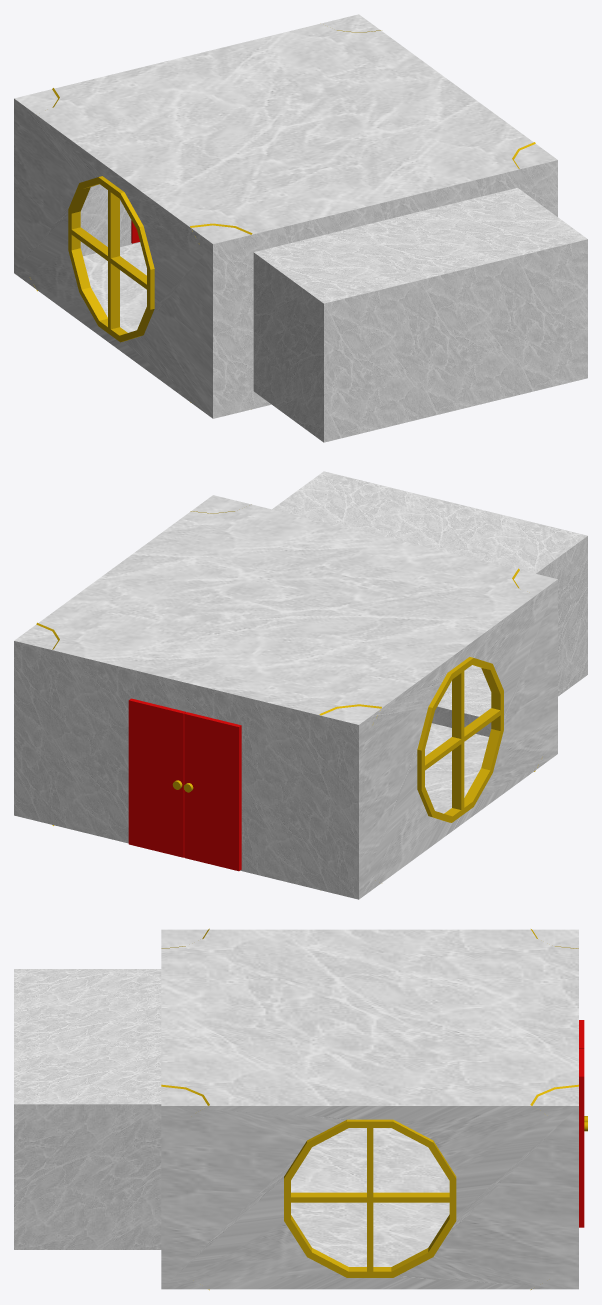
File: ryugujo.fbx
3 views of the same model, one above another, from view 1: azimuth 30°, elevation 25°; view 2: azimuth 150°, elevation 25°; view 3: azimuth 270°, elevation 25° (orthographic). The views are drawn at different scales.
Parts seen in each view (by area): view 1: pCube1, pPipe1; view 2: pCube1, pCube2, pPipe1; view 3: pCube1, pPipe1, pCube2.
Boxes of the visible parts, x1,y1,x2,y2 form: pCube1: [14, 14, 587, 442]; pPipe1: [68, 176, 154, 342]; pCube1: [14, 471, 587, 899]; pCube2: [128, 698, 241, 871]; pPipe1: [417, 657, 503, 822]; pCube1: [14, 929, 578, 1289]; pPipe1: [284, 1119, 456, 1277]; pCube2: [579, 1020, 584, 1227].
Size of the model in its own units: 164 by 78.26 by 219.
3 materials, 1 textured.
